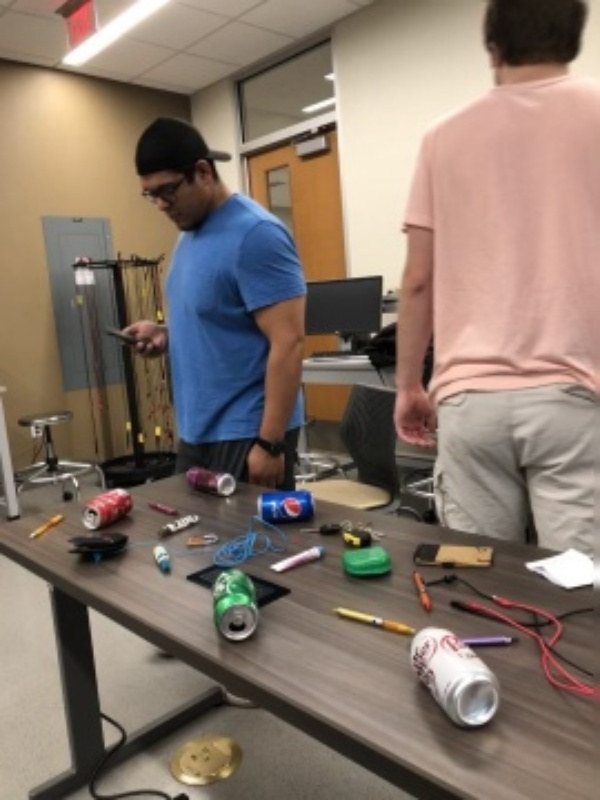can: (408, 623, 504, 729), (211, 566, 262, 644), (80, 485, 135, 534), (252, 487, 318, 526), (182, 460, 238, 498)
